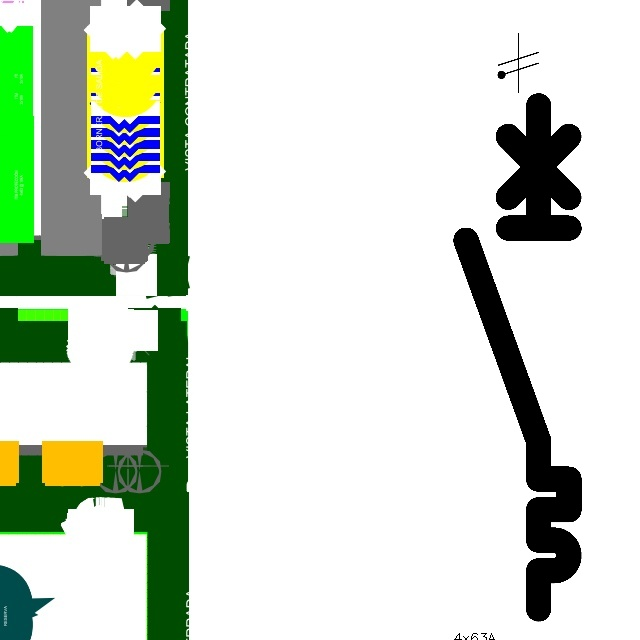interruptor_termomagnetico: (453, 92, 582, 621)
